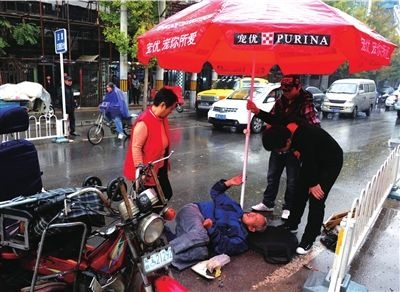falling: (163, 169, 279, 276)
